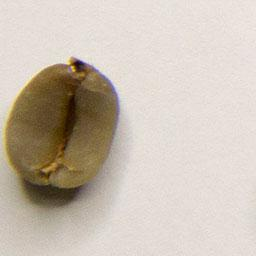premium: (2, 53, 122, 192)
